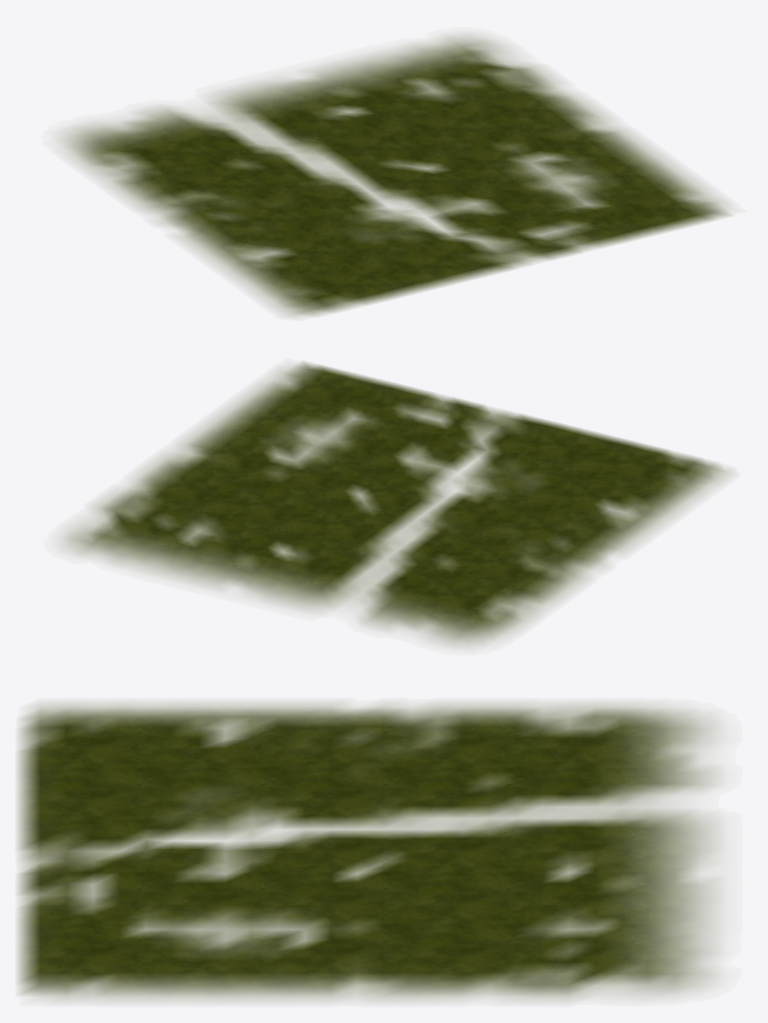
The model's file is moss_carpet.glb.
3 views of the same model, one above another, from view 1: azimuth 30°, elevation 25°; view 2: azimuth 150°, elevation 25°; view 3: azimuth 270°, elevation 25° (orthographic). The views are drawn at different scales.
Parts seen in each view (by area): view 1: moss_carpet; view 2: moss_carpet; view 3: moss_carpet.
Boxes of the visible parts, bbox=[...] form: moss_carpet: bbox=[60, 36, 729, 316]; moss_carpet: bbox=[64, 362, 729, 645]; moss_carpet: bbox=[18, 704, 715, 1000].
Bounding box in the file's own units: 6.4 × 0.0305 × 6.4.
Materials: 1 (1 with a texture image).
